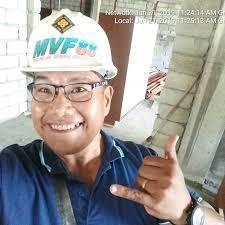helmet: (20, 8, 118, 79)
